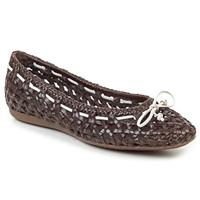shoe: (5, 50, 196, 151)
